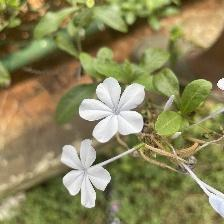chitrak: (79, 76, 152, 144), (62, 139, 113, 211)
